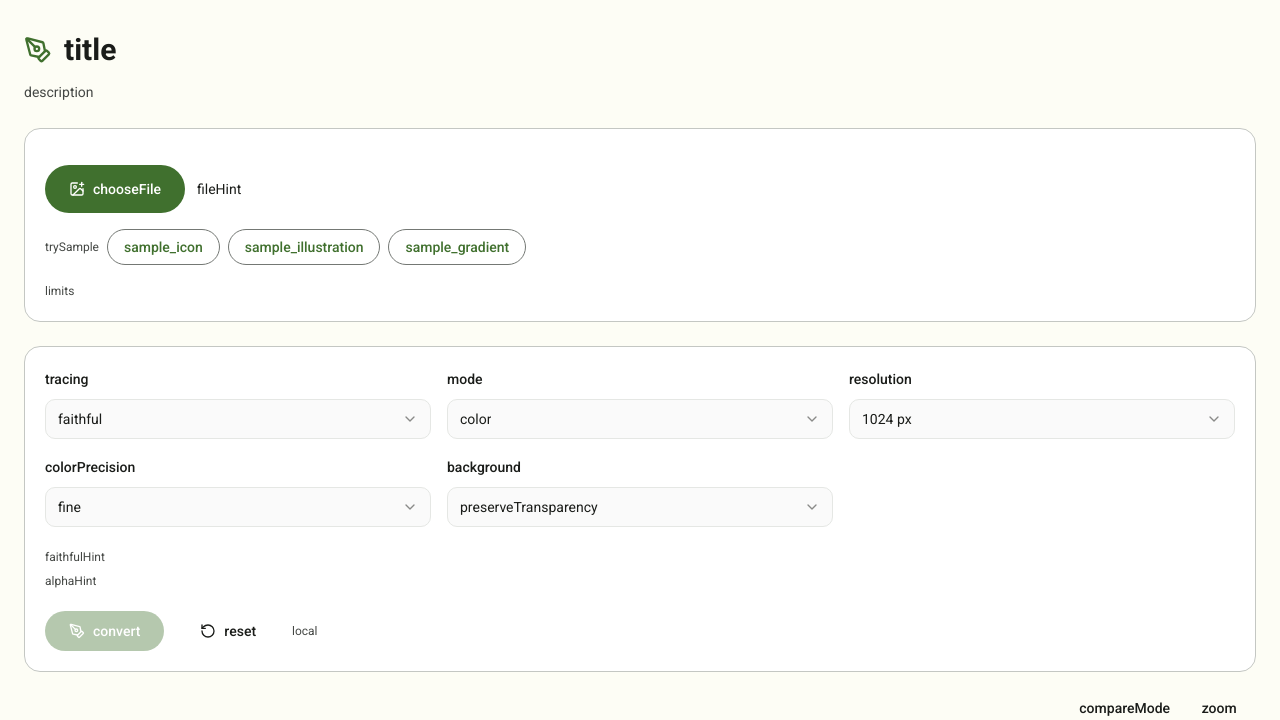
Test: image vector workbench › does not create an image URL for oversized pixel dimensions
Click the button "sample_icon" at [163, 247], box [107,229,220,265]
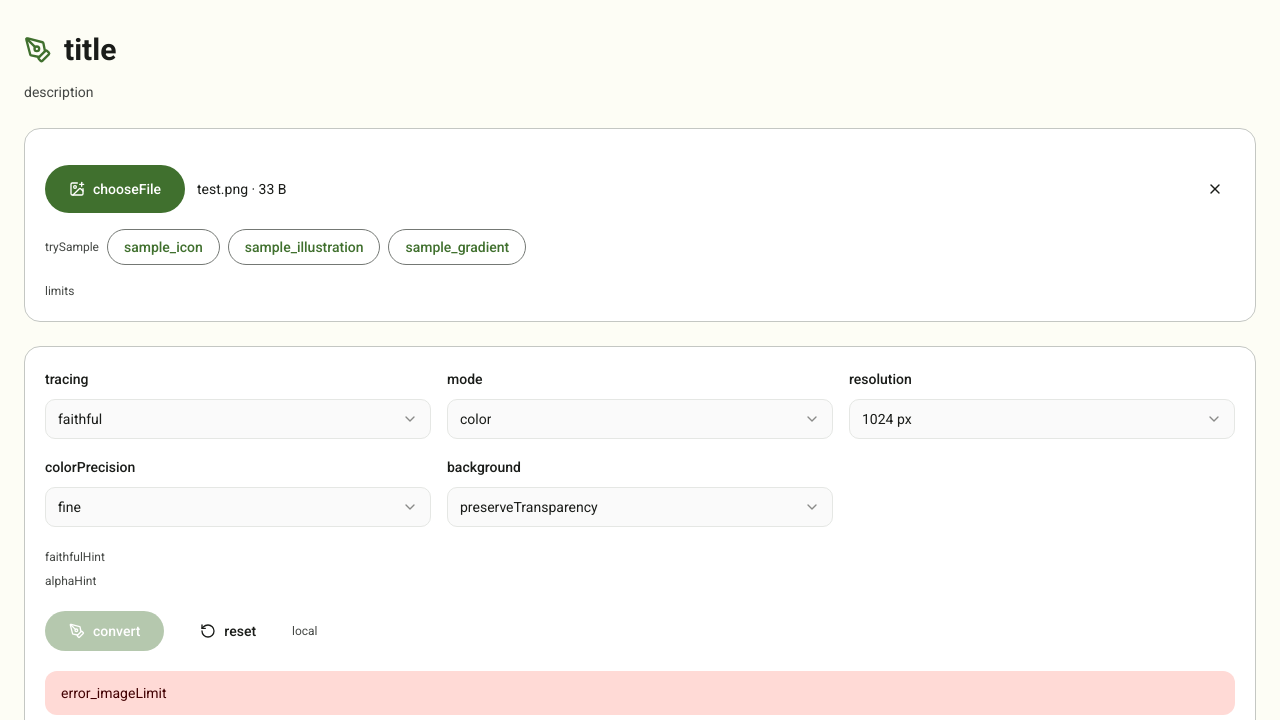
Expected: the button "convert" is disabled, [45,611,164,651]
Now the message reads "error_imageLimit", box [61,685,167,701]
